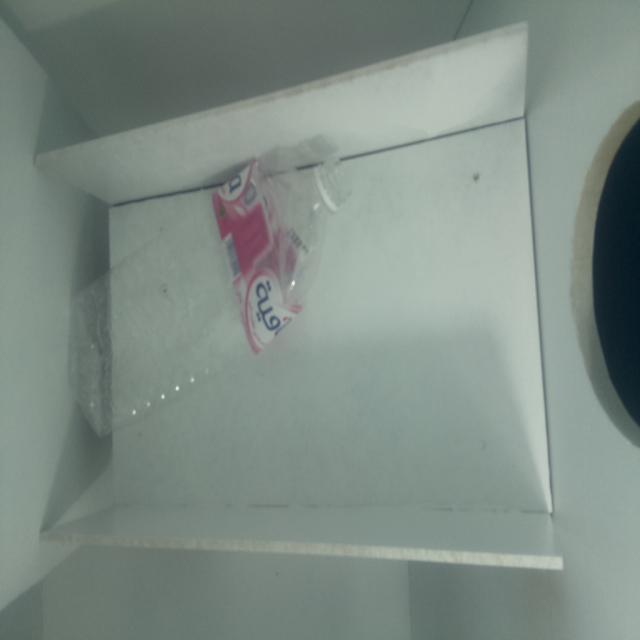Anorganik: (66, 127, 376, 435)
